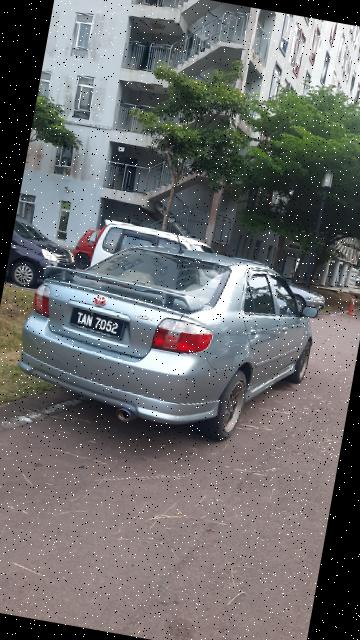License_Plate: (67, 302, 131, 348)
car: (9, 224, 335, 457)
